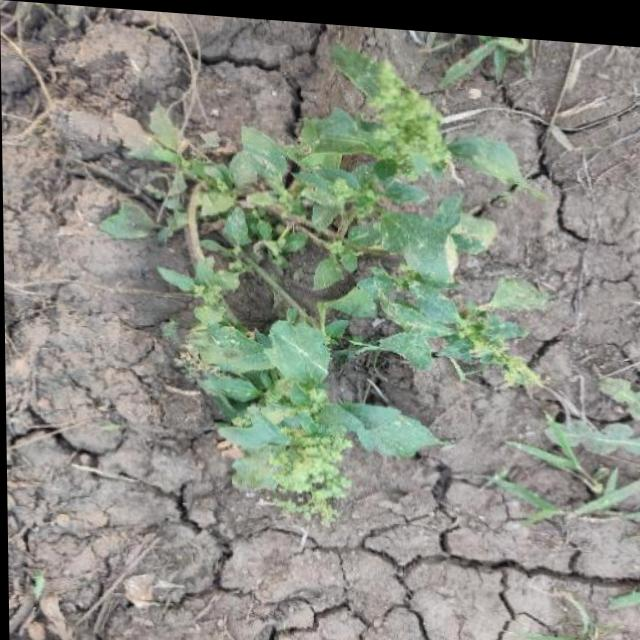weed: (104, 45, 544, 550)
